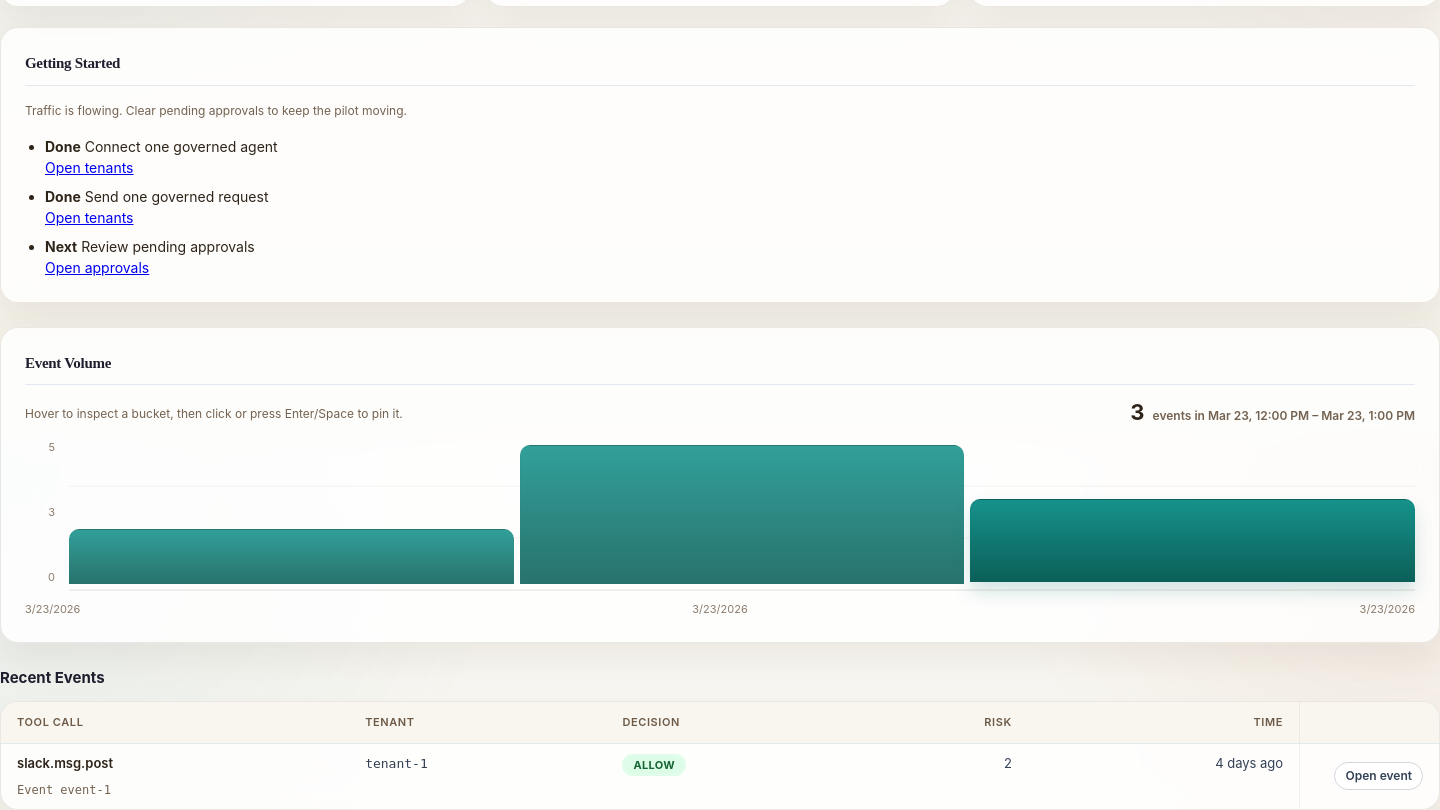
Test: Overview › pins and unpins chart buckets and links to the audit trail window
(page scrolled)
Expected: the heading "Event Volume" is shown, [25, 352, 1415, 385]
Click the 1st button with class "event-volume-bar" at (742,515), box [520, 445, 964, 584]
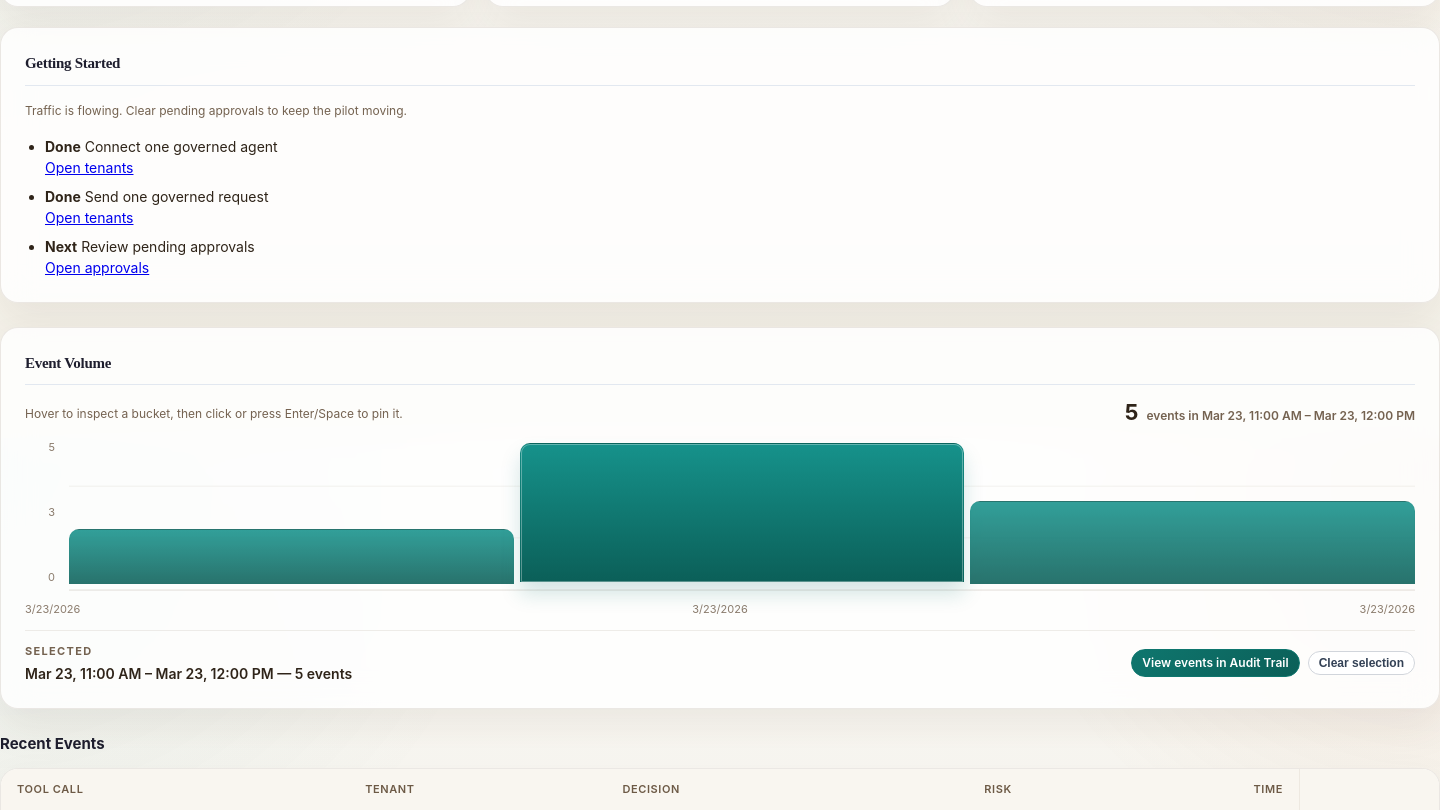
Now the text "Selected" is shown, box [25, 644, 92, 658]
Click the 1st button with class "event-volume-bar" at (742,513), box [520, 443, 964, 582]
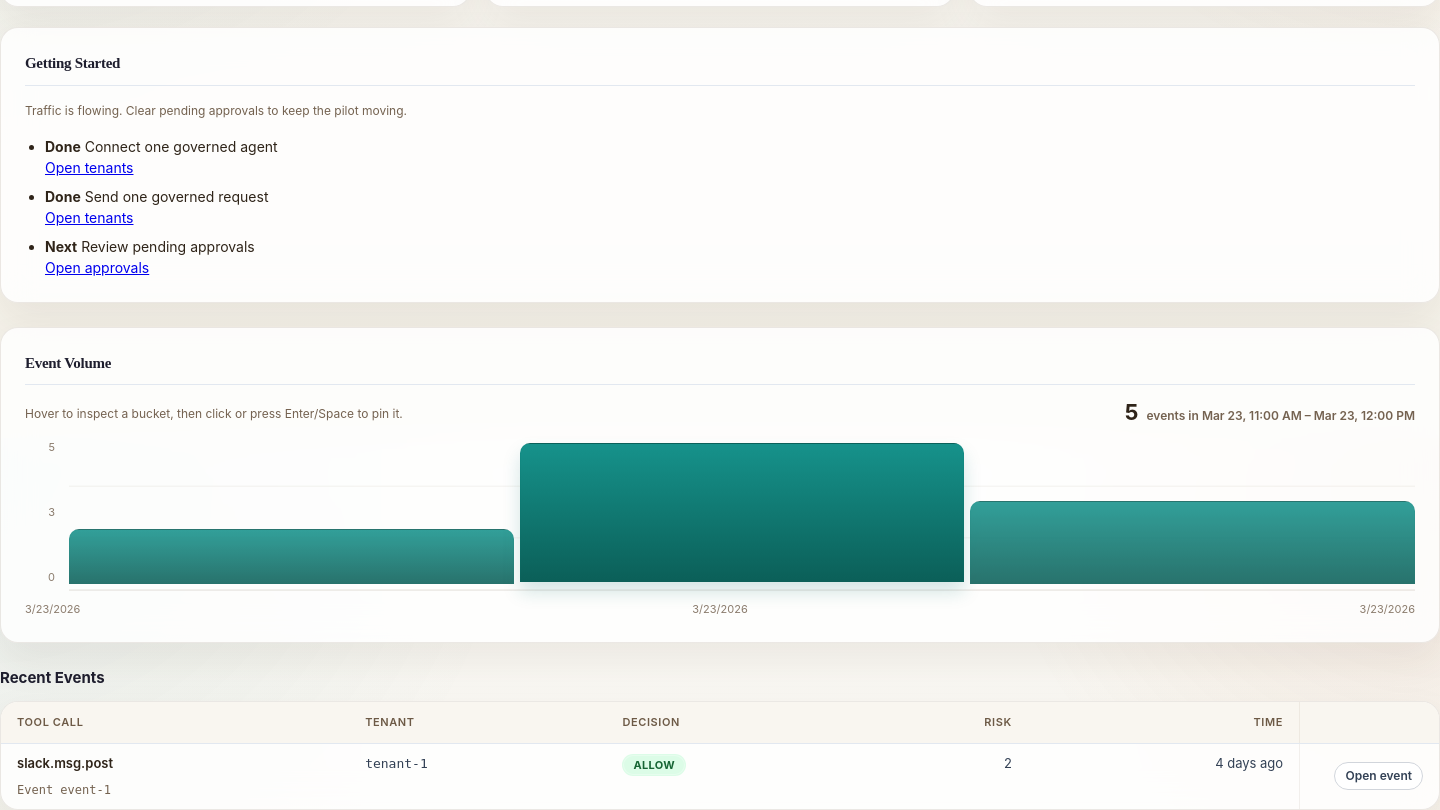
Now the text "Selected" is gone
Press Tab
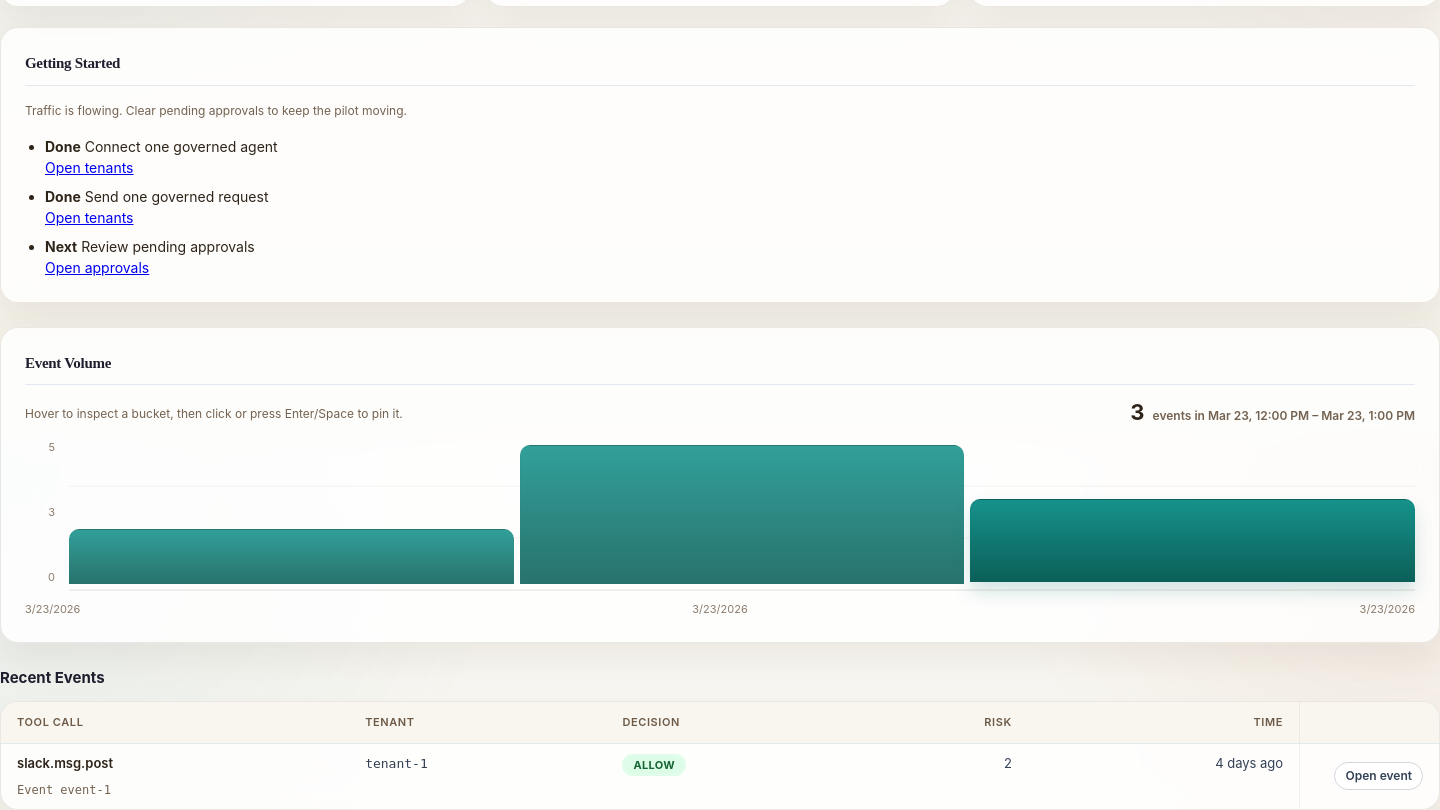
Type keys "[Space]"
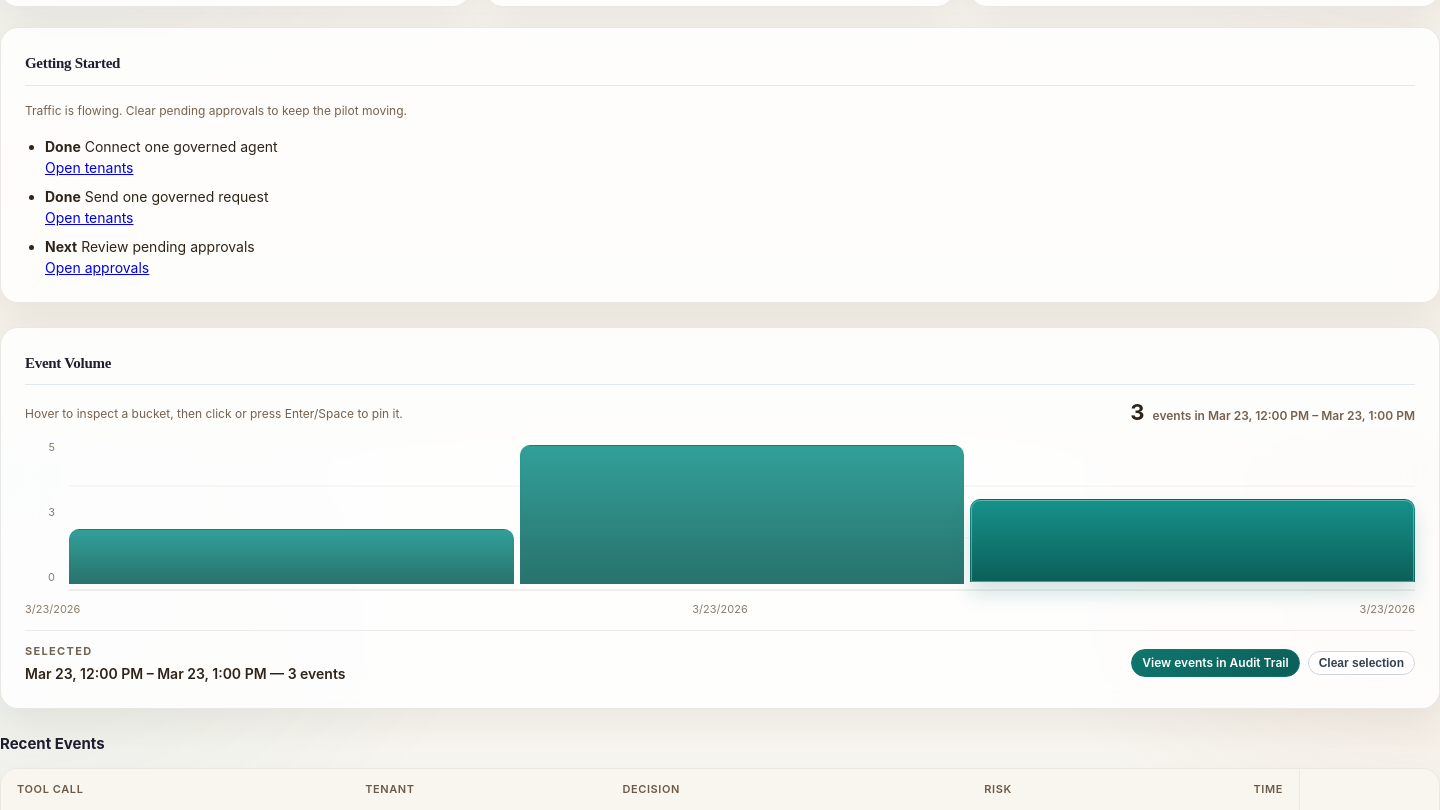
Now the text "Selected" is shown, box [25, 644, 92, 658]
